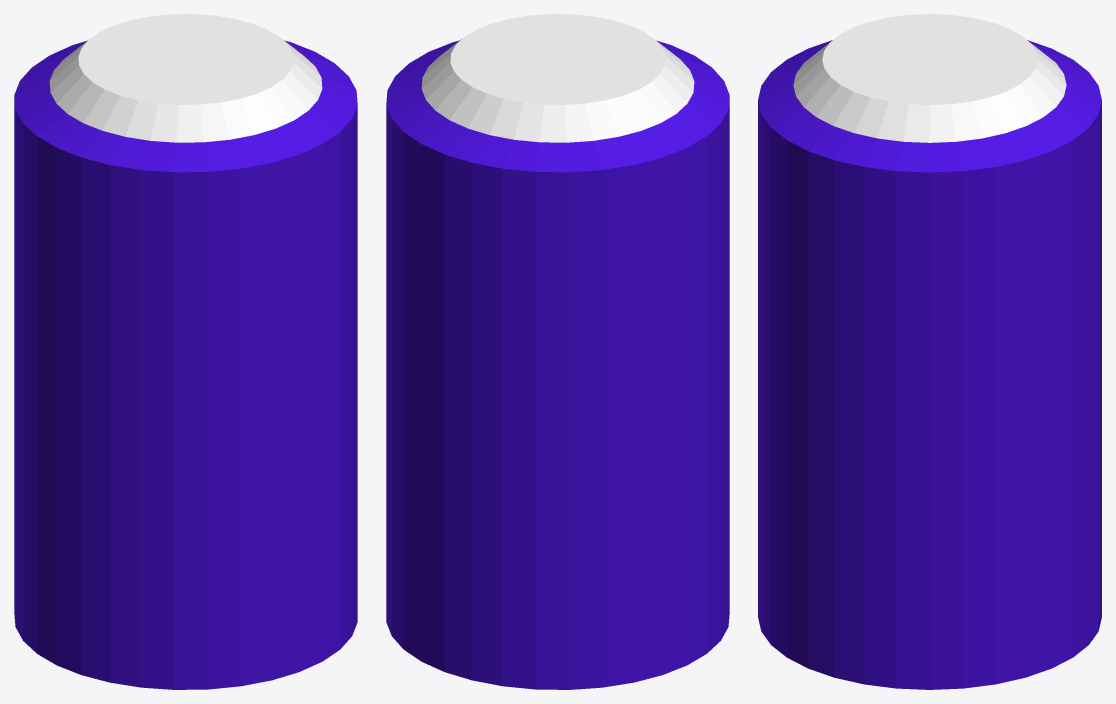
File: battery.fbx
3 views of the same model, side by side, from view 1: azimuth 30°, elevation 25°; view 2: azimuth 150°, elevation 25°; view 3: azimuth 270°, elevation 25° (orthographic).
Visible parts, largest first — view 1: Cylinder; view 2: Cylinder; view 3: Cylinder.
Boxes of the visible parts, x1,y1,x2,y2 form: Cylinder: (14, 14, 357, 689); Cylinder: (386, 14, 729, 689); Cylinder: (758, 14, 1101, 689).
Bounding box in the file's own units: 288 × 536 × 288.
